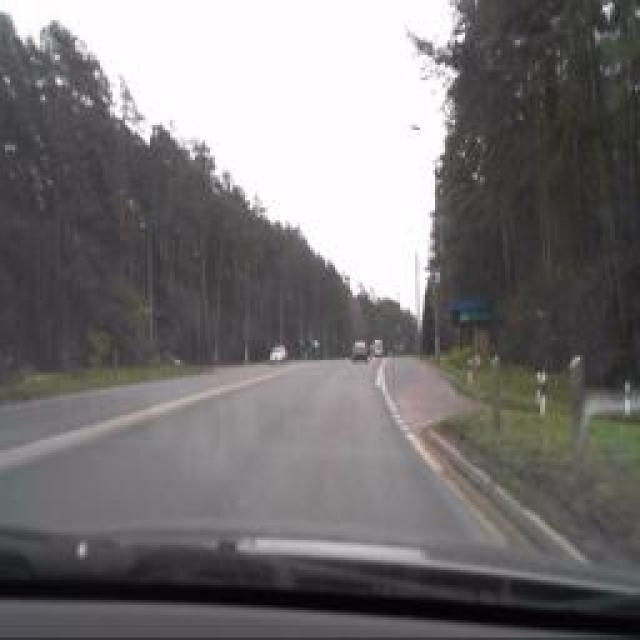sign: (432, 268, 442, 288)
